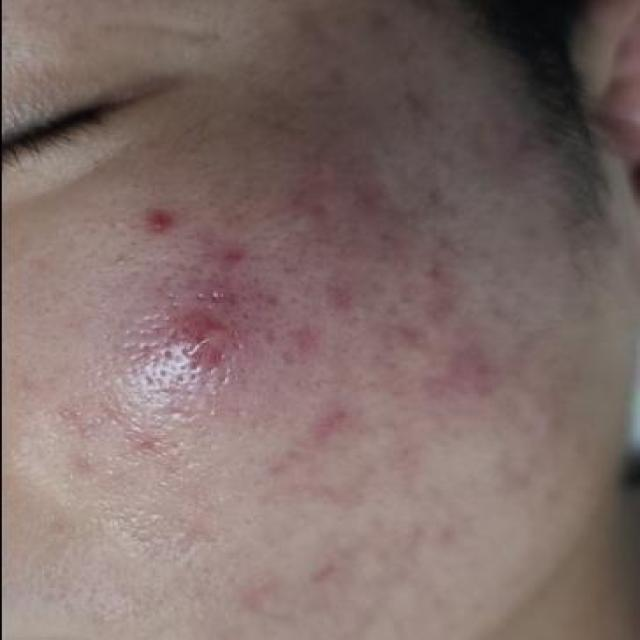acne_scars: (169, 285, 267, 312)
comedone: (88, 248, 141, 291)
cystic: (105, 311, 285, 421)
papule: (141, 186, 188, 243)
